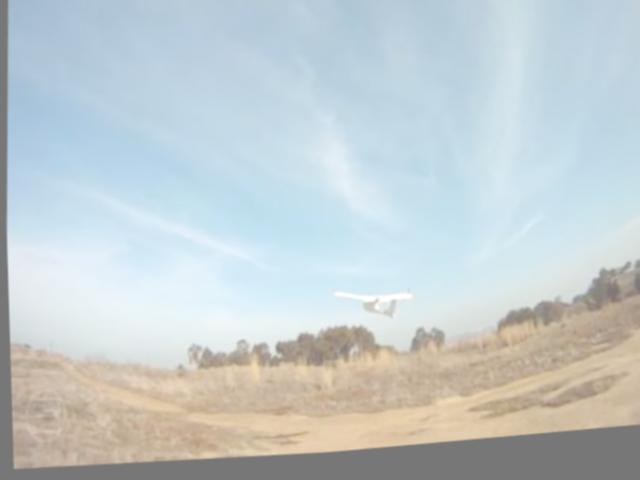uav: (326, 275, 419, 338)
